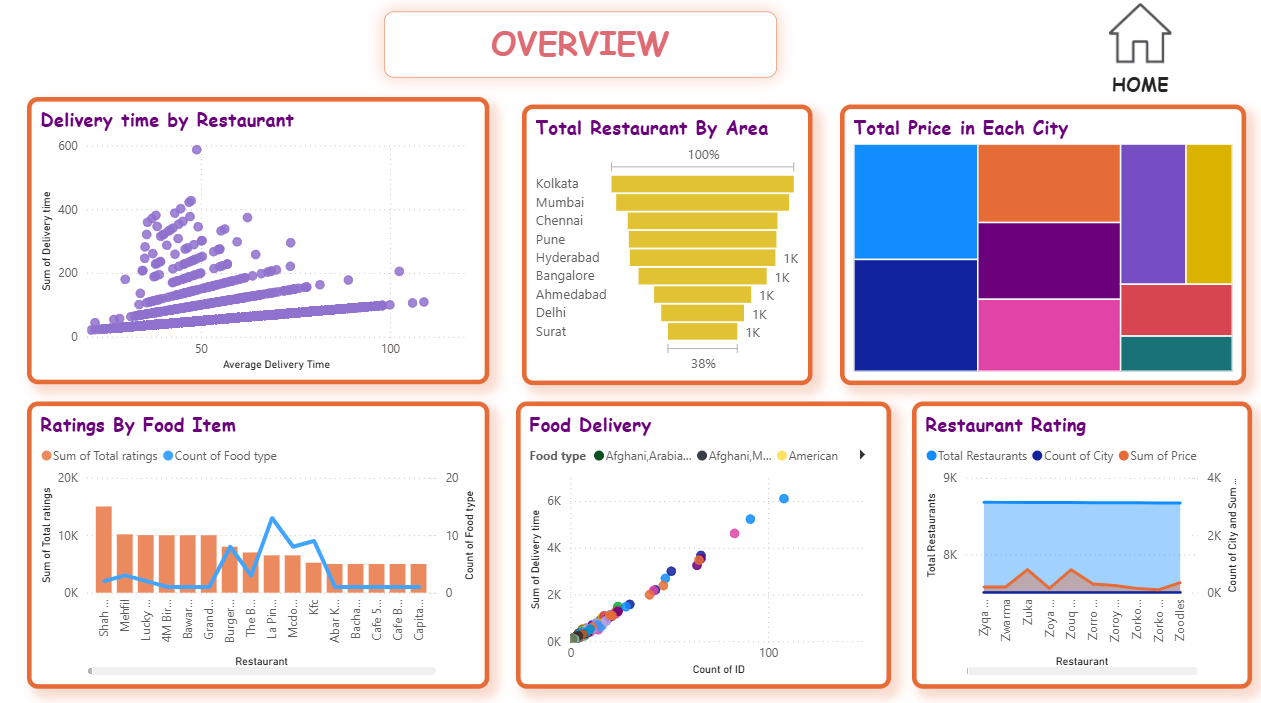

What the dashboard file says about the page in this screenshot:
{"tool":"powerbi","page":{"name":"Overview","canvas":[1280,720],"ordinal":2},"visuals":[{"type":"image","box":[1114,8,166,88],"z":0},{"type":"textbox","box":[1124,74,78,38],"z":1000},{"type":"textbox","box":[393.3,20,396.7,66.7],"z":2000},{"type":"areaChart","title":"Restaurant Rating","fields":{"Y":["swiggy.Total Restaurants"],"Category":["swiggy.Restaurant"],"Y2":["CountNonNull(swiggy.City)","Sum(swiggy.Price)"]},"box":[926.7,413.3,343.3,290],"z":3000},{"type":"funnel","title":"Total Restaurant By Area","fields":{"Category":["swiggy.City","swiggy.Area","swiggy.Address"],"Y":["swiggy.Total Restaurants"]},"box":[533.3,113.3,293.3,283.3],"z":4000},{"type":"scatterChart","title":"Delivery time by Restaurant","fields":{"X":["swiggy.Average Delivery Time"],"Category":["swiggy.Restaurant"],"Y":["Sum(swiggy.Delivery time)"]},"box":[33.3,106.7,466.7,290],"z":5000},{"type":"lineClusteredColumnComboChart","title":"Ratings By Food Item","fields":{"Category":["swiggy.Restaurant"],"Y2":["CountNonNull(swiggy.Food type)"],"Y":["Sum(swiggy.Total ratings)"]},"box":[33.3,413.3,466.7,290],"z":6000},{"type":"treemap","title":"Total Price in Each City","fields":{"Values":["Sum(swiggy.Price)"],"Group":["swiggy.City"]},"box":[853.3,113.3,410,283.3],"z":7000},{"type":"scatterChart","title":"Food Delivery","fields":{"Series":["swiggy.Food type"],"Category":["swiggy.Price"],"Y":["Sum(swiggy.Delivery time)"],"X":["CountNonNull(swiggy.ID)"]},"box":[526.7,413.3,378.3,290],"z":8000}]}

Visuals, with their boxes in screenshot pixels (x1, y1, x2, y2), scaled from the page's 1280x720 canvas onto the 1261x703 screenshot:
image: x1=1097, y1=8, x2=1260, y2=94
textbox: x1=1107, y1=72, x2=1184, y2=109
textbox: x1=387, y1=20, x2=778, y2=85
"Restaurant Rating" areaChart: x1=913, y1=404, x2=1251, y2=687
"Total Restaurant By Area" funnel: x1=525, y1=111, x2=814, y2=387
"Delivery time by Restaurant" scatterChart: x1=33, y1=104, x2=493, y2=387
"Ratings By Food Item" lineClusteredColumnComboChart: x1=33, y1=404, x2=493, y2=687
"Total Price in Each City" treemap: x1=841, y1=111, x2=1245, y2=387
"Food Delivery" scatterChart: x1=519, y1=404, x2=892, y2=687
